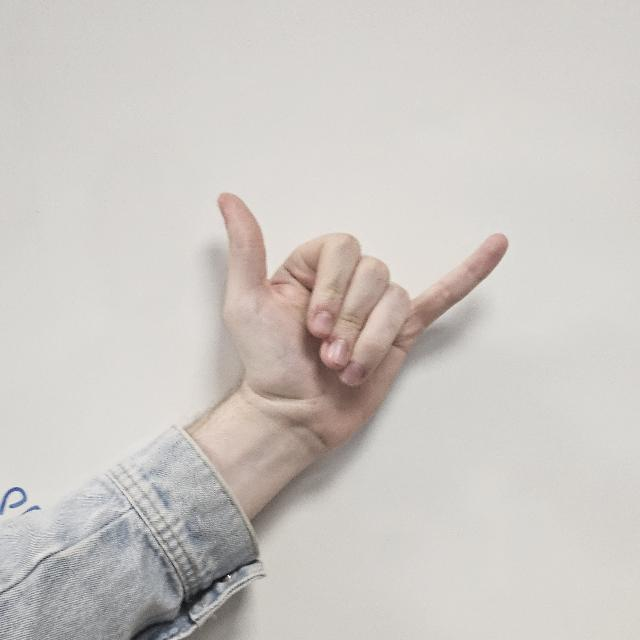Direita: (172, 157, 526, 463)
